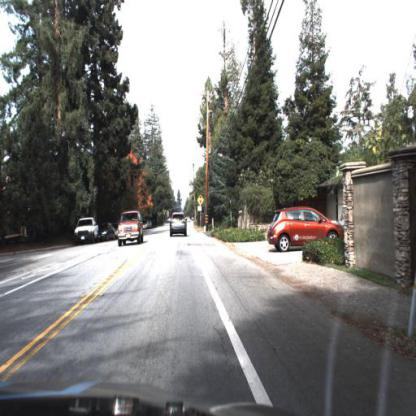car: (264, 196, 347, 256), (267, 207, 344, 251), (112, 207, 147, 249), (116, 206, 145, 246), (72, 213, 102, 246), (169, 209, 189, 239), (75, 216, 101, 239), (96, 220, 117, 246)
